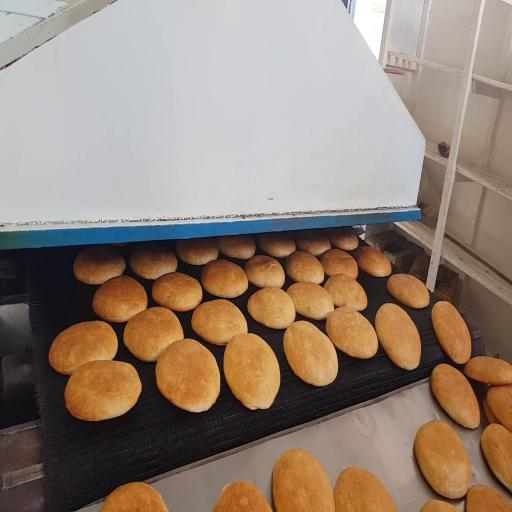bread: (156, 339, 220, 412), (65, 361, 141, 420), (414, 421, 471, 498), (224, 334, 280, 409), (273, 449, 335, 511), (49, 321, 117, 374), (284, 321, 338, 386), (124, 307, 183, 361), (431, 364, 480, 428), (375, 303, 421, 370), (334, 467, 397, 511), (326, 307, 378, 358), (93, 276, 147, 322), (192, 300, 247, 345), (432, 302, 471, 364), (481, 424, 511, 491), (247, 288, 295, 329), (74, 246, 125, 284), (152, 273, 202, 311), (101, 483, 168, 511), (287, 282, 334, 320), (201, 260, 248, 298), (130, 243, 177, 279), (214, 482, 271, 511), (324, 274, 367, 311), (387, 274, 429, 308), (465, 357, 511, 385), (285, 251, 324, 284), (244, 256, 285, 287), (466, 485, 511, 511), (176, 238, 218, 265), (319, 249, 358, 278), (487, 385, 511, 431), (355, 247, 391, 277), (217, 235, 255, 259), (259, 232, 295, 257), (295, 231, 330, 255), (328, 228, 358, 250), (420, 500, 459, 511), (483, 397, 499, 423)
